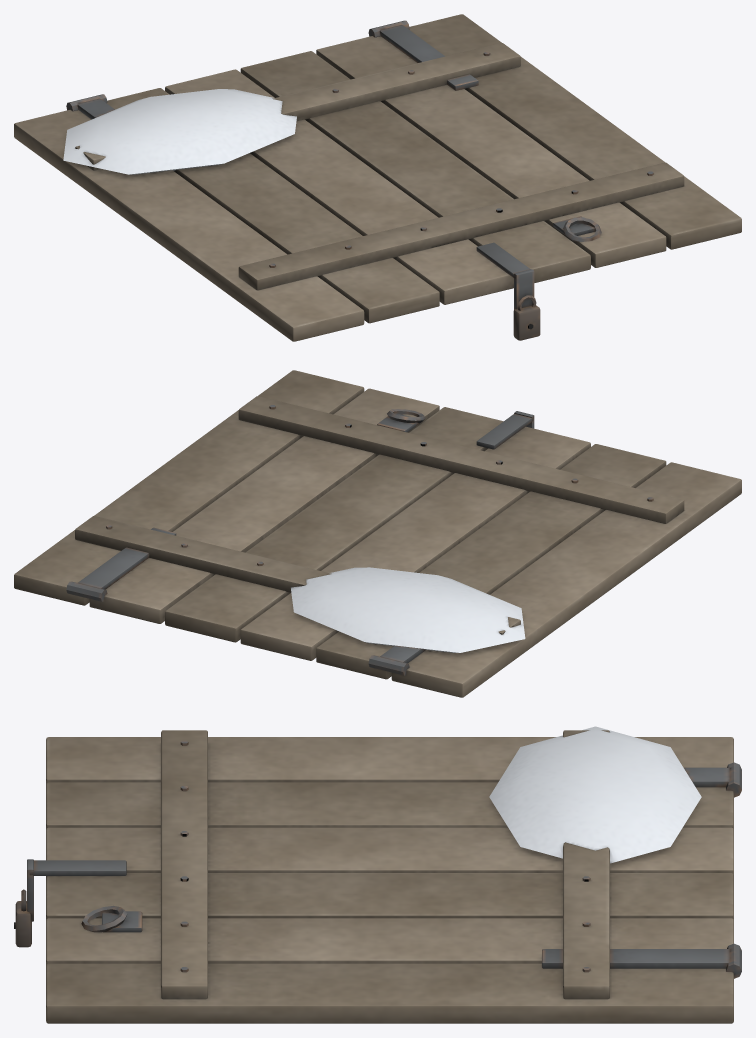
The model's file is ice_cellar_lid.glb.
3 views of the same model, one above another, from view 1: azimuth 30°, elevation 25°; view 2: azimuth 150°, elevation 25°; view 3: azimuth 270°, elevation 25° (orthographic). The views are drawn at different scales.
Parts seen in each view (by area): view 1: ice_cellar_lid; view 2: ice_cellar_lid; view 3: ice_cellar_lid.
Boxes of the visible parts, left/top/right/bottom form: ice_cellar_lid: left=14, top=14, right=741, bottom=341; ice_cellar_lid: left=14, top=370, right=741, bottom=697; ice_cellar_lid: left=14, top=726, right=741, bottom=1023.
Size of the model in its own units: 1.45 by 0.2444 by 1.63.
Materials: 1 (1 with a texture image).
